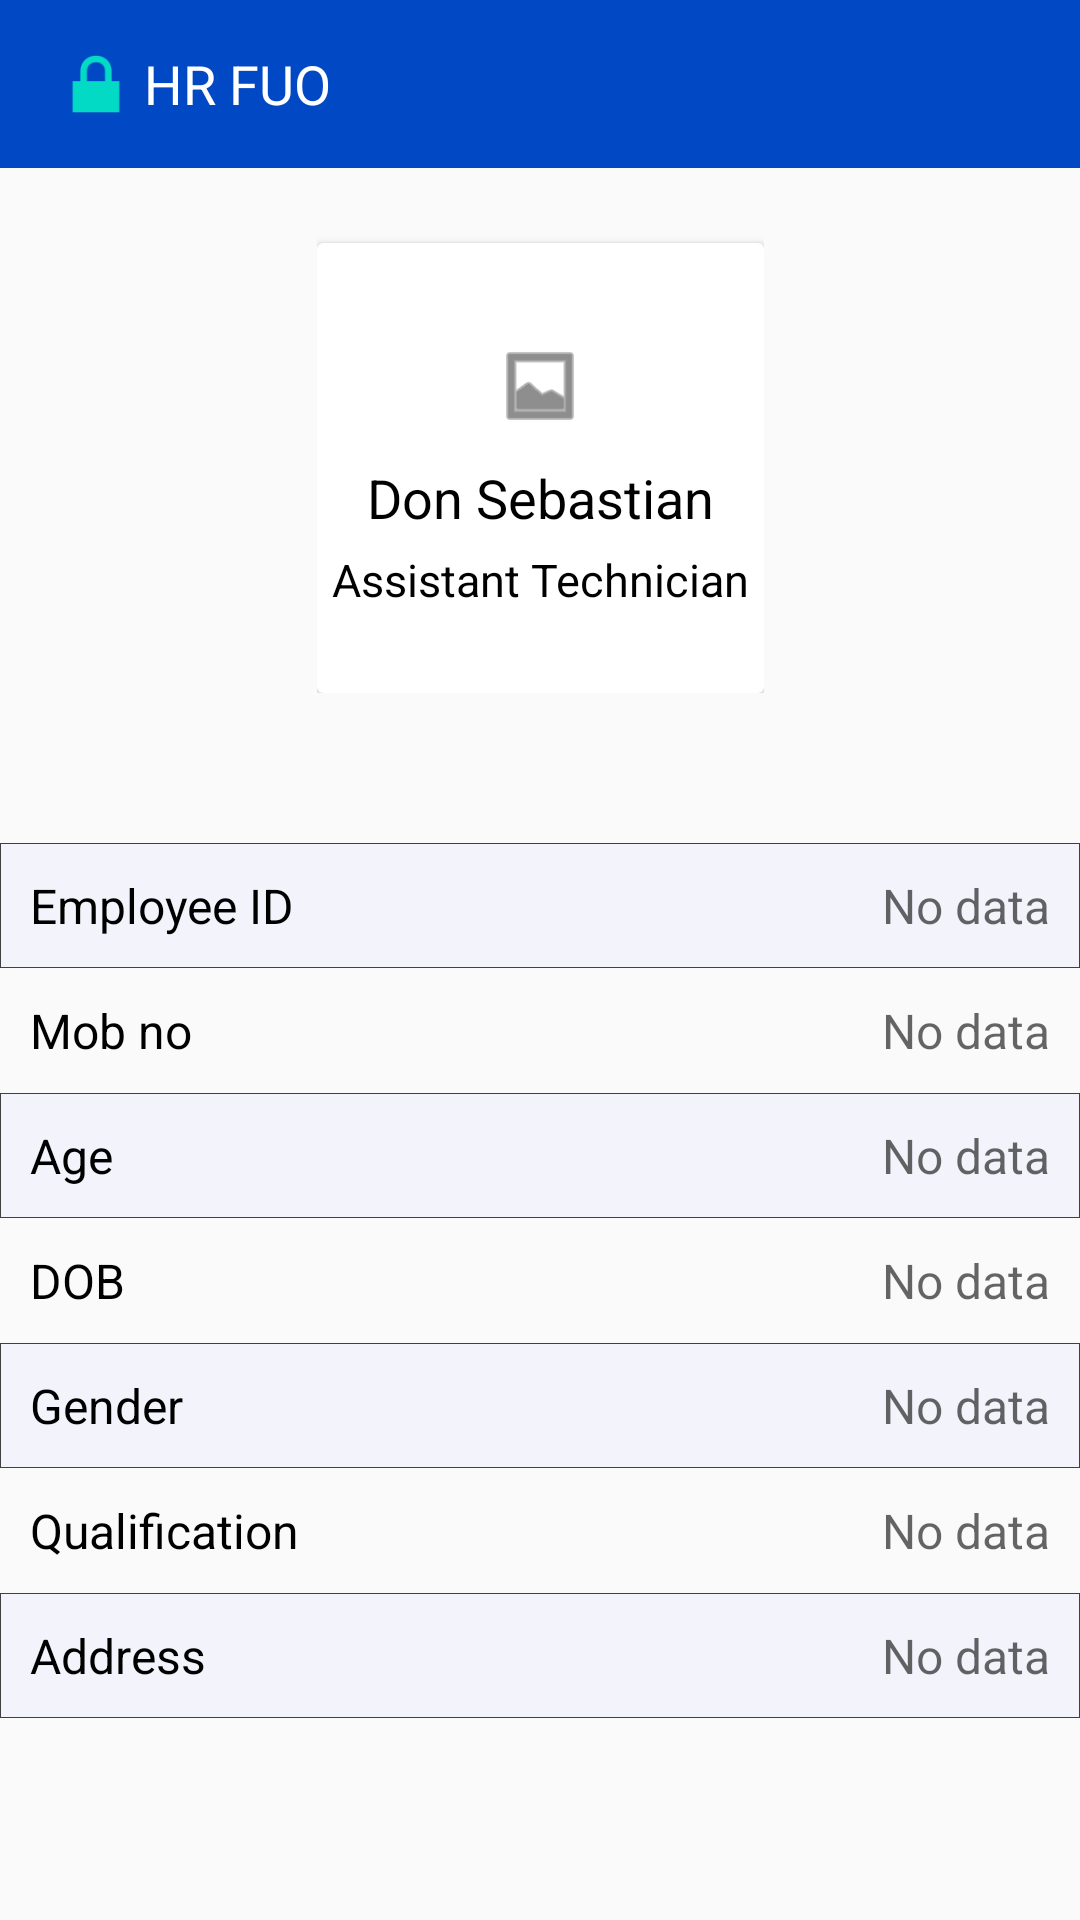

Icons on this 1080px x 1920px Android screen, each with its box as [left=x1, top=y1, right=x2, bottom=y2]:
gallery: [left=506, top=352, right=574, bottom=420]
lock: [left=72, top=55, right=120, bottom=113]
